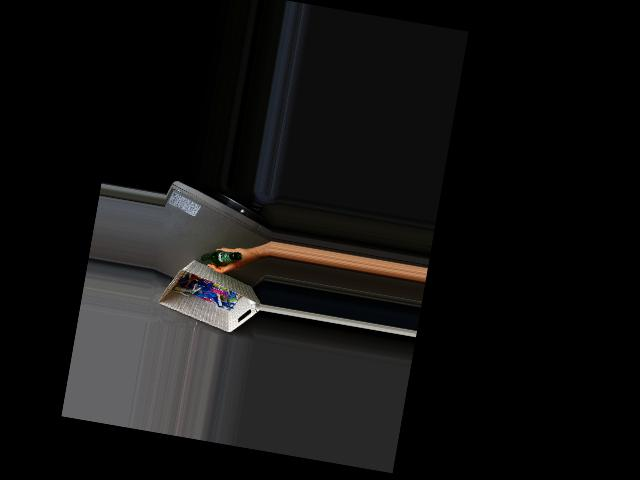beer: (200, 246, 243, 271)
